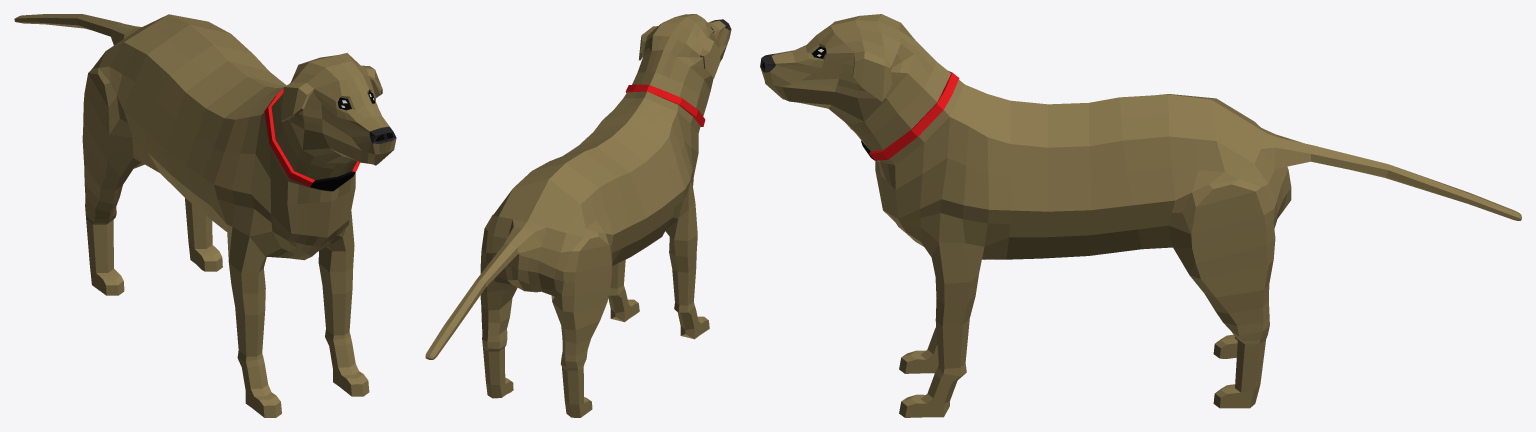
File: hond 2.fbx
The picture shows the model from 3 angles, left to right: view 1: azimuth 30°, elevation 25°; view 2: azimuth 150°, elevation 25°; view 3: azimuth 270°, elevation 25°; orthographic projection. The views are drawn at different scales.
Visible parts, largest first — view 1: body; view 2: body; view 3: body.
Part boxes in pixels (x1,y1,x2,y2): body: [14, 14, 396, 417]; body: [425, 14, 731, 417]; body: [760, 14, 1521, 417].
Bounding box in the file's own units: 131 × 326 × 606.
